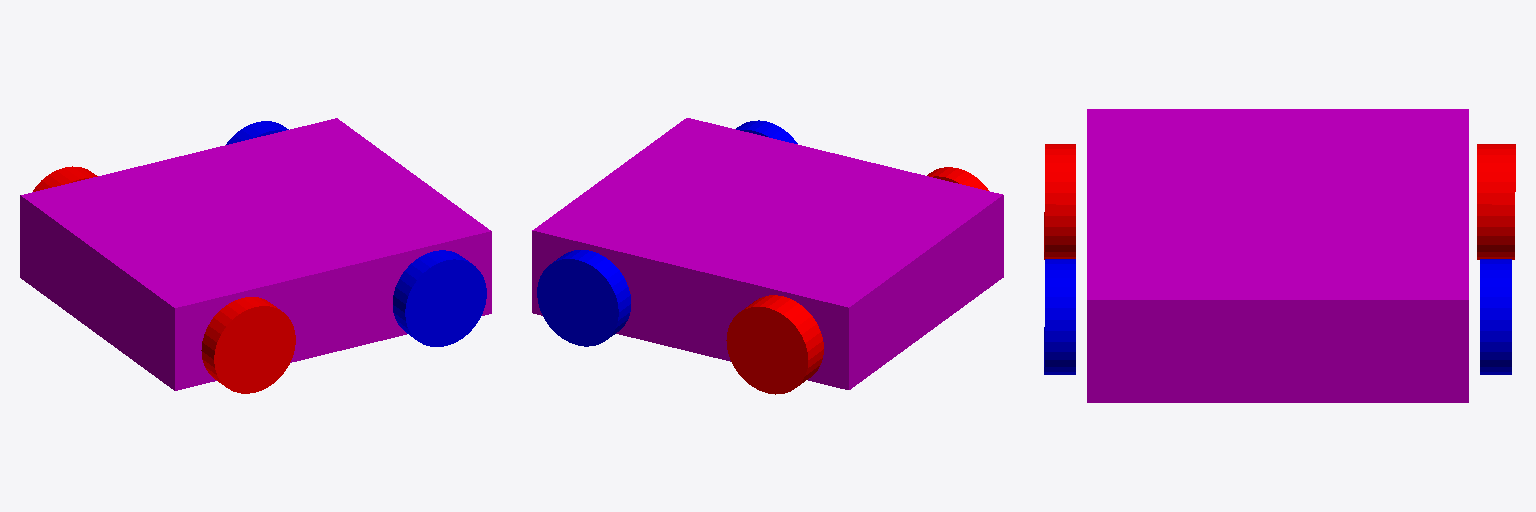
The robot description file, URDF, robot "dongguan":
<?xml version="1.0" ?>
<robot name="dongguan">

     <link name="base_link">
        <visual>
            <origin xyz=" 0 0 0.08" rpy="0 0 0" />
            <geometry>
                <box size="0.58 0.49 0.145"/>
            </geometry>
            <material name="pink">
                <color rgba="0.803 0 0.803 1"/>
            </material>
        </visual>
    </link>   

    <joint name="left_wheel_joint" type="continuous">
        <origin xyz="-0.175 0.28 0.075" rpy="1.57 0 0"/>
        <parent link="base_link"/>
        <child link="left_wheel_link"/>
        <axis xyz="0 1 0"/>
    </joint>

    <link name="left_wheel_link">
        <visual>
            <origin xyz="0 0 0" rpy="0 0 0" />
            <geometry>
                <cylinder radius="0.075" length = "0.05"/>
            </geometry>
            <material name="red">
                <color rgba="1 0 0 1"/>
            </material>
        </visual>
    </link>

    <joint name="right_wheel_joint" type="continuous">
        <origin xyz="-0.175 -0.28 0.075" rpy="1.57 0 0"/>
        <parent link="base_link"/>
        <child link="right_wheel_link"/>
        <axis xyz="0 1 0"/>
    </joint>

    <link name="right_wheel_link">
        <visual>
            <origin xyz="0 0 0" rpy="0 0 0" />
            <geometry>
                <cylinder radius="0.075" length = "0.04"/>
            </geometry>
            <material name="red">
                <color rgba="1 0 0 1"/>
            </material>
        </visual>
    </link>

      <joint name="left_front_joint" type="continuous">
        <origin xyz="0.175 0.28 0.075" rpy="1.57 0 0"/>
        <parent link="base_link"/>
        <child link="left_front_link"/>
        <axis xyz="0 1 0"/>
    </joint>

    <link name="left_front_link">
        <visual>
            <origin xyz="0 0 0" rpy="0 0 0" />
            <geometry>
                <cylinder radius="0.075" length = "0.04"/>
            </geometry>
            <material name="blue">
                <color rgba="0 0 1 1"/>
            </material>
        </visual>
    </link>

    <joint name="right_front_joint" type="continuous">
        <origin xyz="0.175 -0.28 0.075" rpy="1.57 0 0"/>
        <parent link="base_link"/>
        <child link="right_front_link"/>
        <axis xyz="0 1 0"/>
    </joint>

    <link name="right_front_link">
        <visual>
            <origin xyz="0 0 0" rpy="0 0 0" />
            <geometry>
                <cylinder radius="0.075" length = "0.04"/>
            </geometry>
            <material name="blue">
                <color rgba="0 0 1 1"/>
            </material>
        </visual>
    </link>


</robot>

--- Facts derived from the render (not from the file) ---
Views: 3 orthographic renders of the robot side by side, from view 1: azimuth 30°, elevation 25°; view 2: azimuth 150°, elevation 25°; view 3: azimuth 270°, elevation 25°.
Model dongguan with 5 links and 4 joints (4 continuous), rooted at base_link, posed all joints at 0.
Links seen in each view (by area): view 1: base_link, right_wheel_link, right_front_link, left_wheel_link, left_front_link; view 2: base_link, left_wheel_link, left_front_link, right_wheel_link, right_front_link; view 3: base_link, left_wheel_link, left_front_link, right_front_link, right_wheel_link.
Link boxes in pixels (x1,y1,x2,y2): base_link: [20, 118, 491, 390]; right_wheel_link: [201, 297, 295, 393]; right_front_link: [393, 250, 486, 346]; left_wheel_link: [33, 166, 97, 191]; left_front_link: [226, 121, 288, 144]; base_link: [532, 118, 1003, 389]; left_wheel_link: [726, 295, 823, 394]; left_front_link: [537, 250, 630, 346]; right_wheel_link: [927, 167, 988, 190]; right_front_link: [736, 120, 797, 143]; base_link: [1087, 109, 1468, 402]; left_wheel_link: [1477, 144, 1515, 259]; left_front_link: [1480, 259, 1511, 374]; right_front_link: [1044, 259, 1075, 374]; right_wheel_link: [1044, 144, 1075, 259].
Size in the robot's own frame: 0.58 by 0.6051 by 0.1525 metres.
Geometry: primitives only (box / cylinder / sphere), no mesh files.